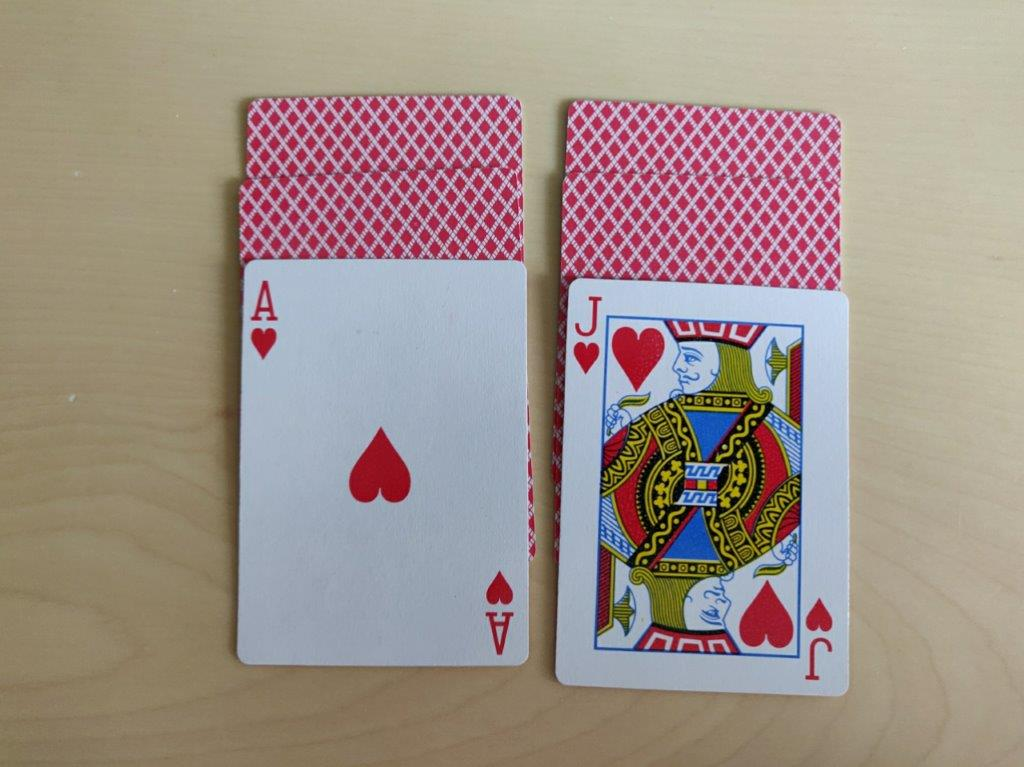AH: (250, 271, 282, 369)
BACK: (555, 168, 856, 287), (229, 92, 532, 182), (226, 173, 529, 263), (561, 94, 857, 186)
JH: (570, 288, 603, 376)
